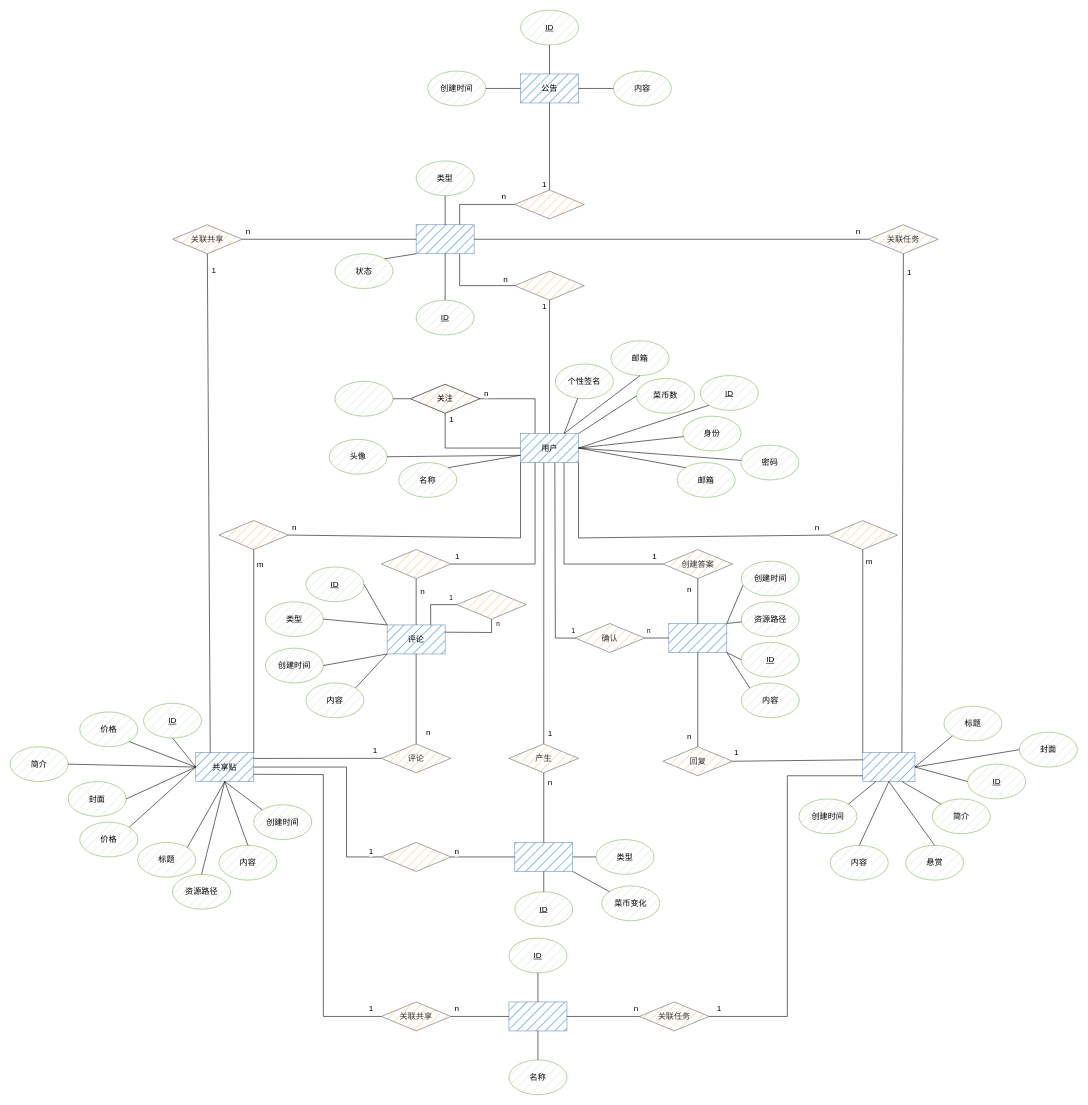
The diagram is 1088 pixels wide and 1105 high, and some of its shapes have lost their labels. The centre of each missing label's shape, as x and y in pixels:
"任务贴" goes at (888,767).
"关注时间" goes at (363,398).
"关联公告" goes at (549,204).
"创建评论" goes at (416,564).
"回复评论" goes at (491,604).
"操作记录" goes at (543,856).
"收到" goes at (549,285).
"标签" goes at (537,1016).
"消息" goes at (445,239).
"答案" goes at (697,637).
"管理任务" goes at (862,535).
"管理共享" goes at (253,535).
"记录" goes at (416,856).
